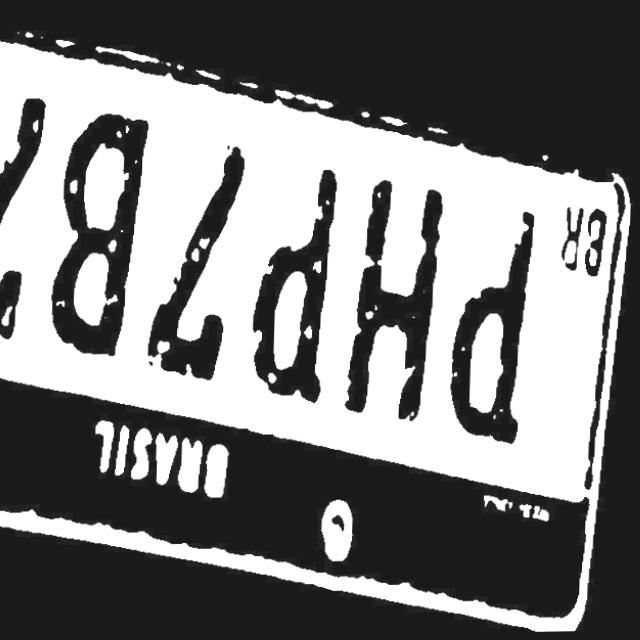7: (148, 146, 249, 384)
b: (51, 113, 150, 358)
h: (346, 181, 446, 424)
p: (252, 168, 341, 406), (451, 210, 539, 449)
